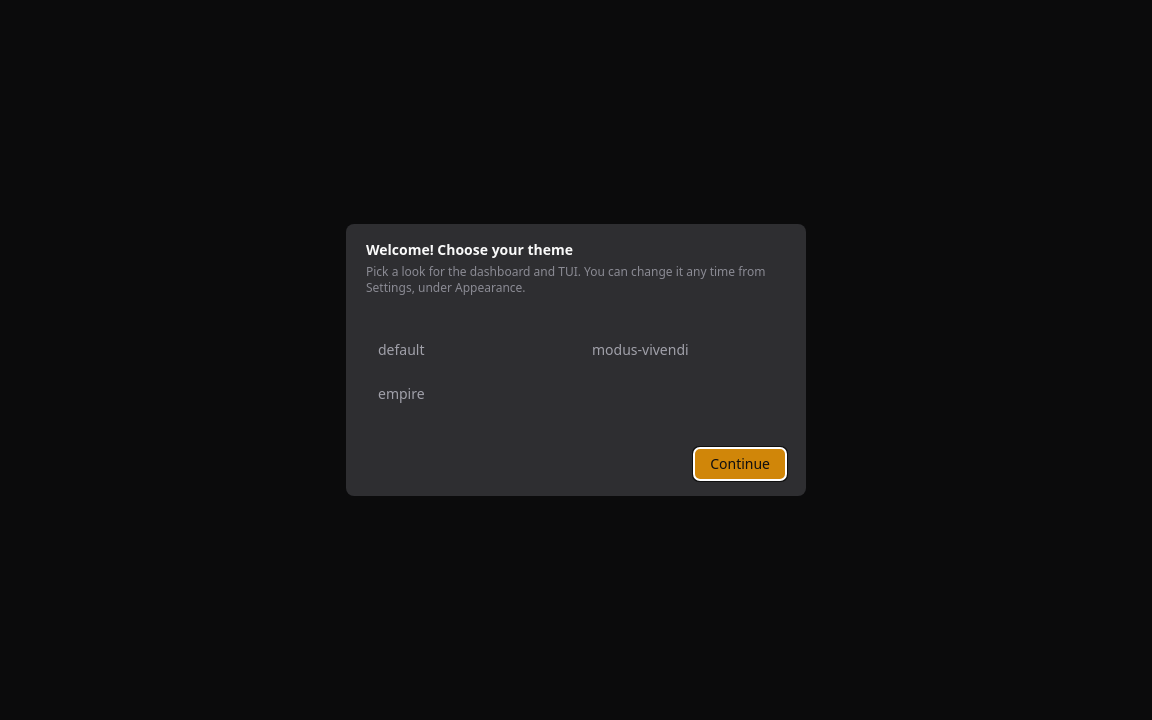
Test: ThemeIntro › shows an error and does not repaint when the save fails
expect the option "modus-vivendi" is shown: met, box top-left (580, 332), bottom-right (786, 368)
Click the option "empire" at (469,394), box top-left (366, 376), bottom-right (572, 412)
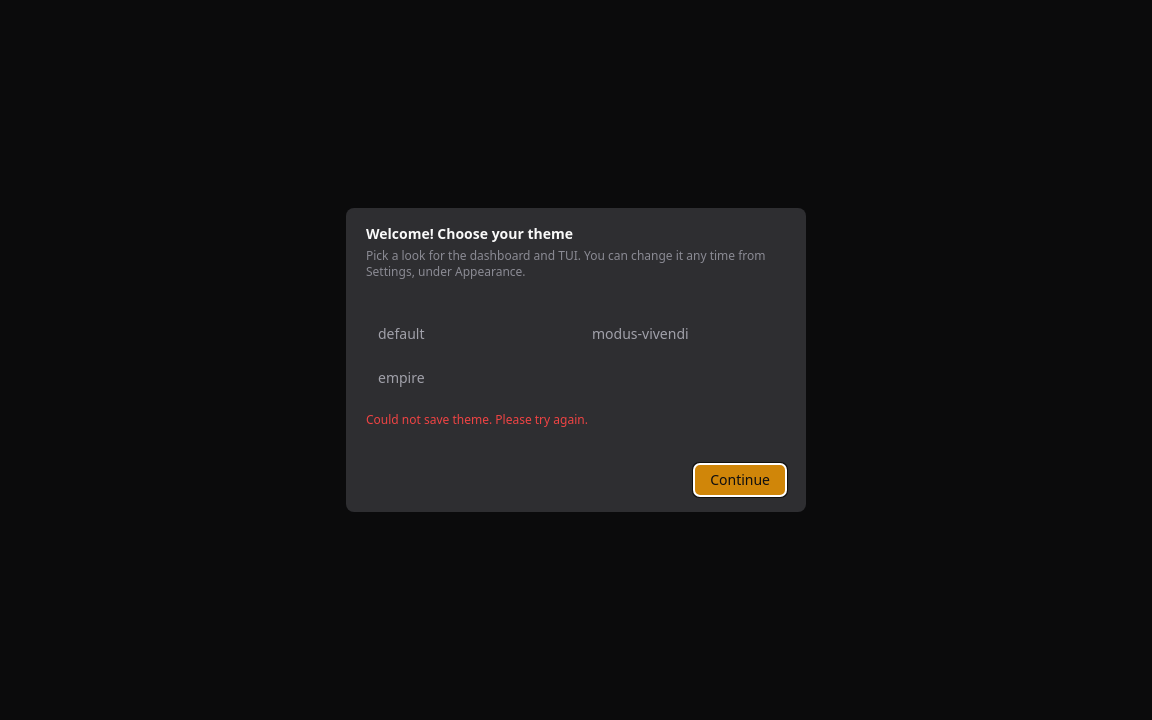
expect the message "Could not save theme. Please try again." is shown: met, box top-left (366, 411), bottom-right (588, 428)
